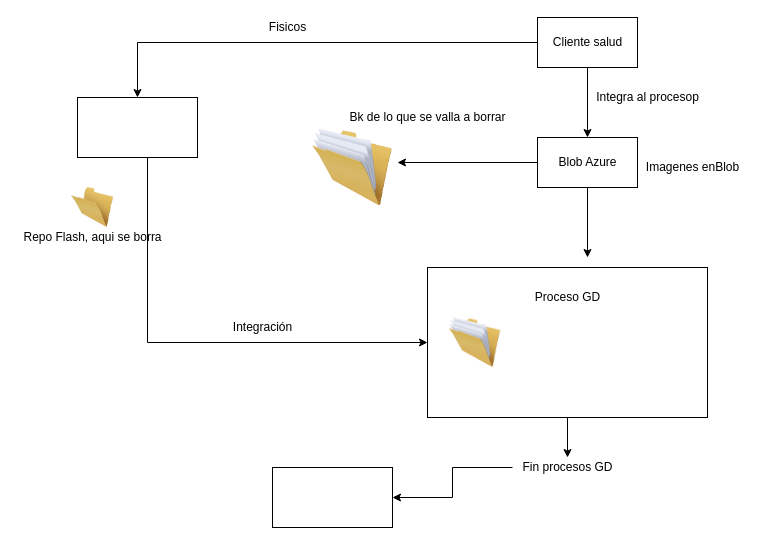
This 764x545 diagram has some shape labels left out. Here are the shapes that lost their labels. From the top down, the box of each, then its label:
(76, 96, 198, 158): Flash Digitalizacion
(272, 466, 392, 528): Borrar Imagenes de Finalizados
